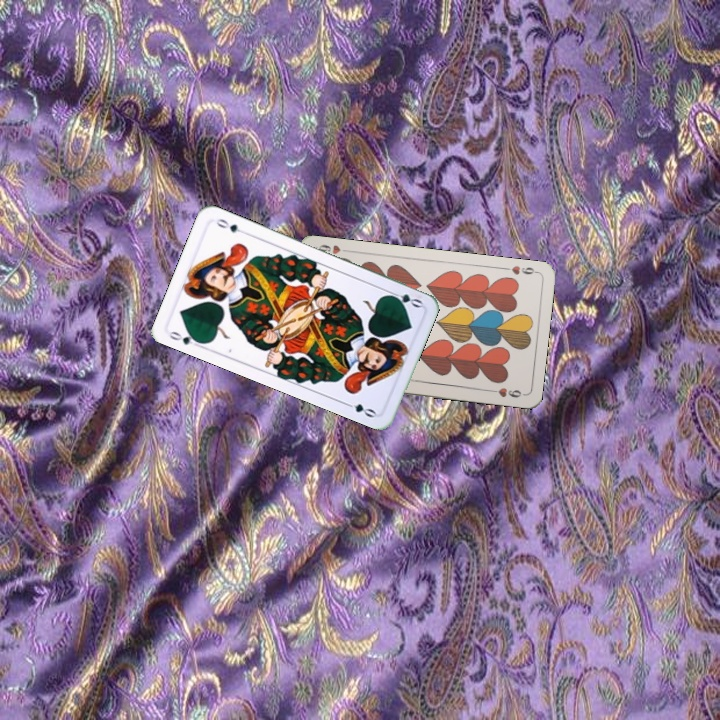GO: (384, 287, 425, 311), (165, 327, 205, 350)
H9: (499, 261, 540, 277)
